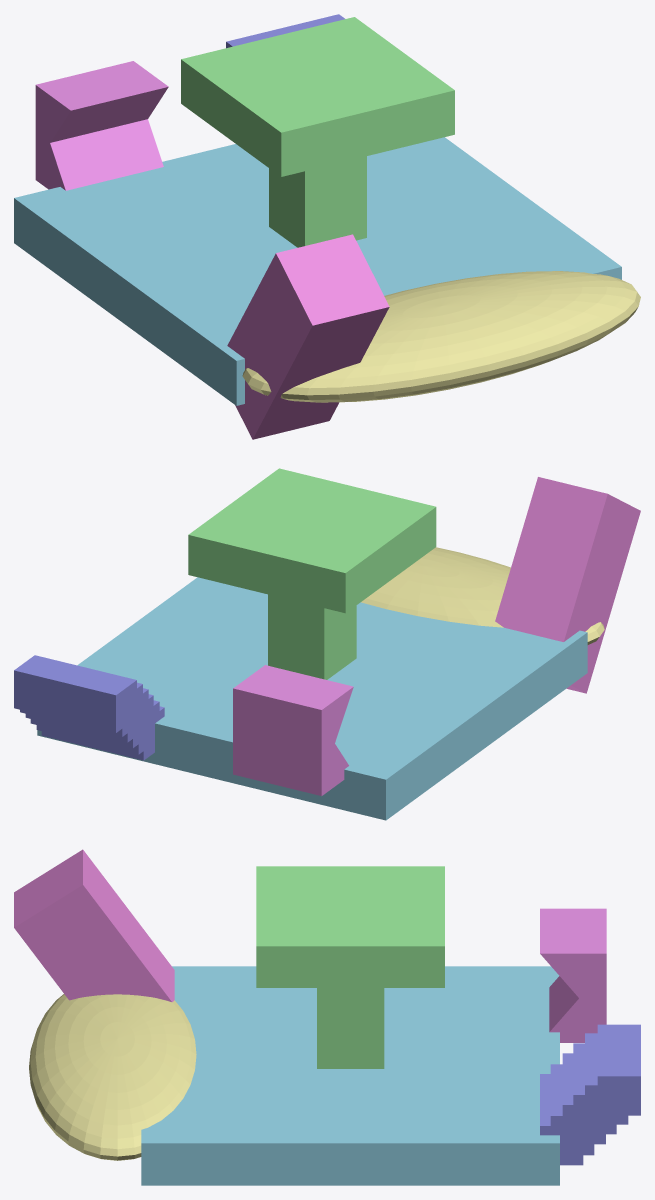
File: testStage.fbx
The picture shows the model from 3 angles, top to bottom: view 1: azimuth 30°, elevation 25°; view 2: azimuth 150°, elevation 25°; view 3: azimuth 270°, elevation 25°; orthographic projection. The views are drawn at different scales.
Parts seen in each view (by area): view 1: 立方体.001; view 2: 立方体.001; view 3: 立方体.001.
Part boxes in pixels (x1,y1,x2,y2): 立方体.001: (14,14,640,439); 立方体.001: (14,468,640,820); 立方体.001: (14,849,640,1185).
Size of the model in its own units: 10.05 by 5.78 by 14.97.
